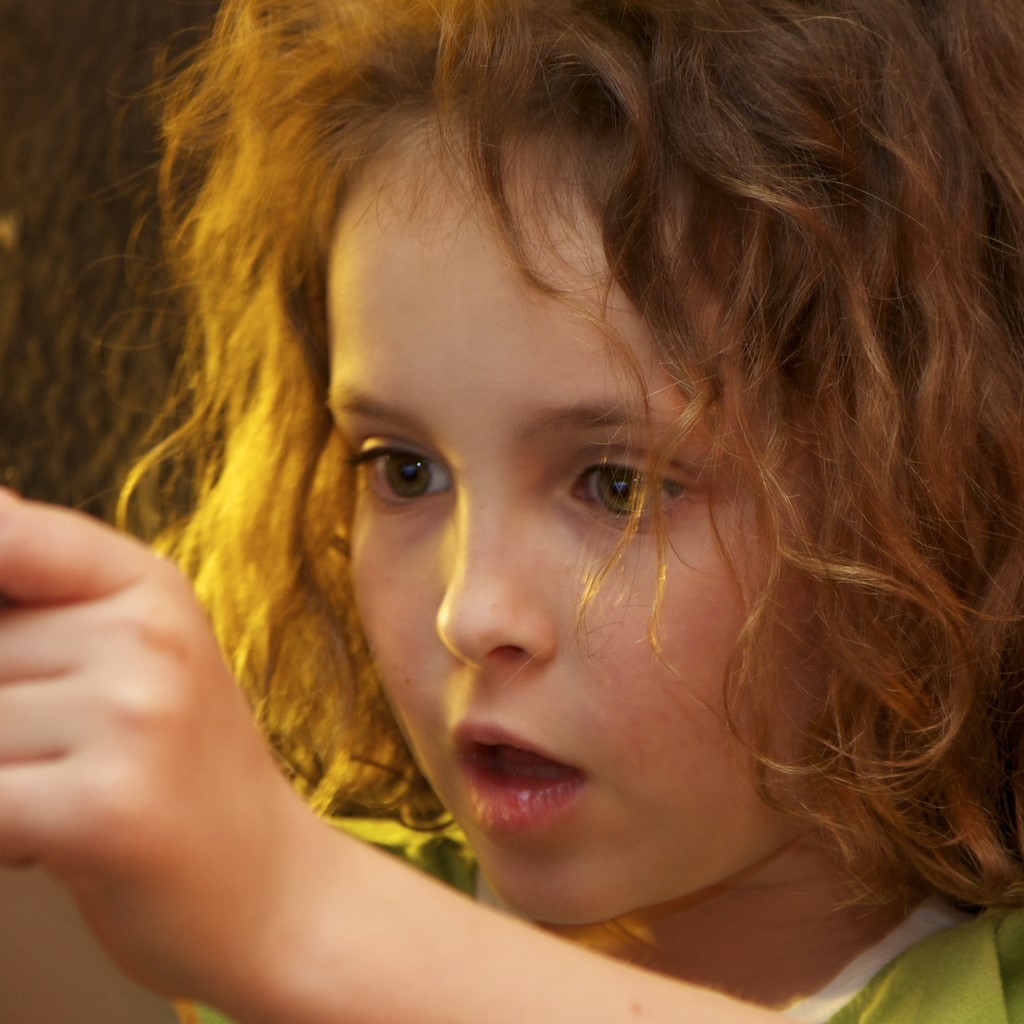sin_mascara: (307, 102, 912, 918)
